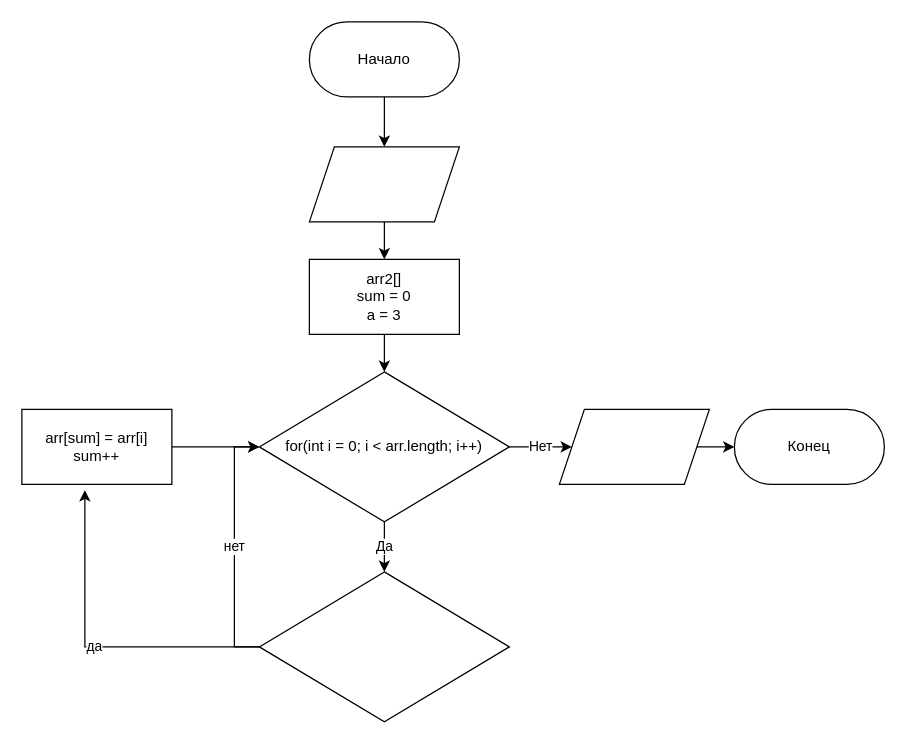
The diagram is 906 pixels wide and 744 high, and some of its shapes have lost their labels. Each missing label, with the centre of its shape:
"if(arr[i].length <= a)" belongs at (383,646).
"Ввод arr[]" belongs at (383,184).
"Ввывод arr2[]" belongs at (633,446).
